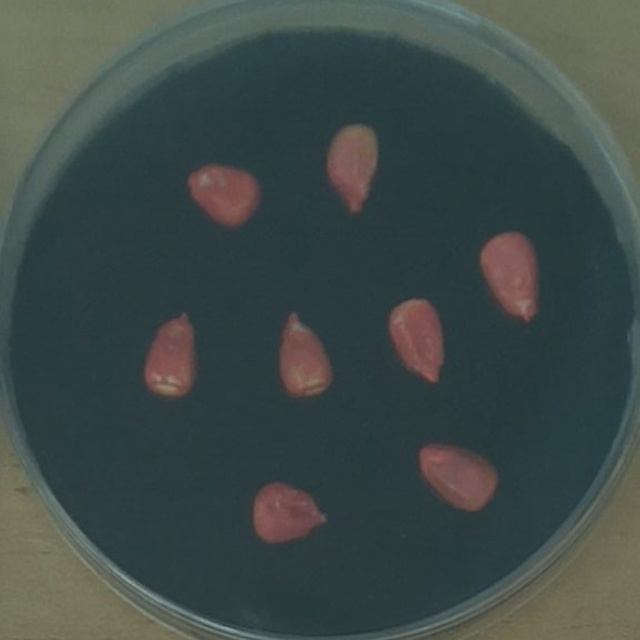Zea mays: (470, 222, 548, 328), (409, 436, 507, 518), (316, 113, 389, 221), (268, 302, 342, 407), (378, 287, 454, 389), (179, 155, 270, 232), (136, 301, 203, 405), (245, 472, 336, 548)
